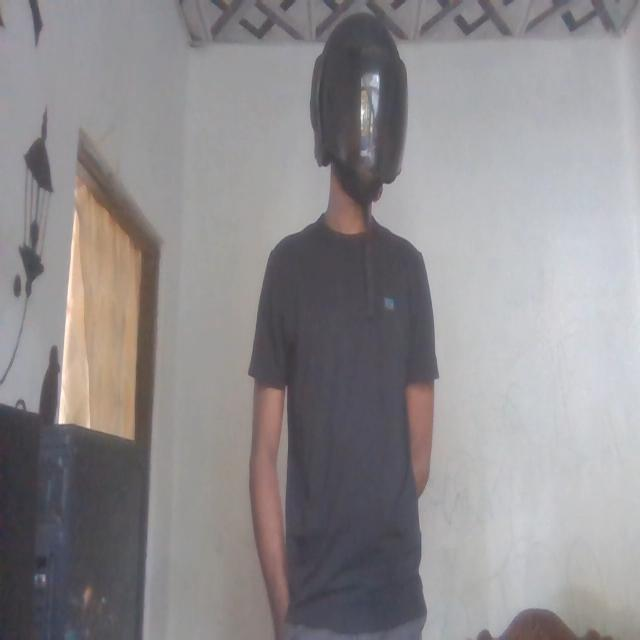Helmet_Wearer: (306, 7, 413, 256)
Person: (247, 0, 439, 640)
